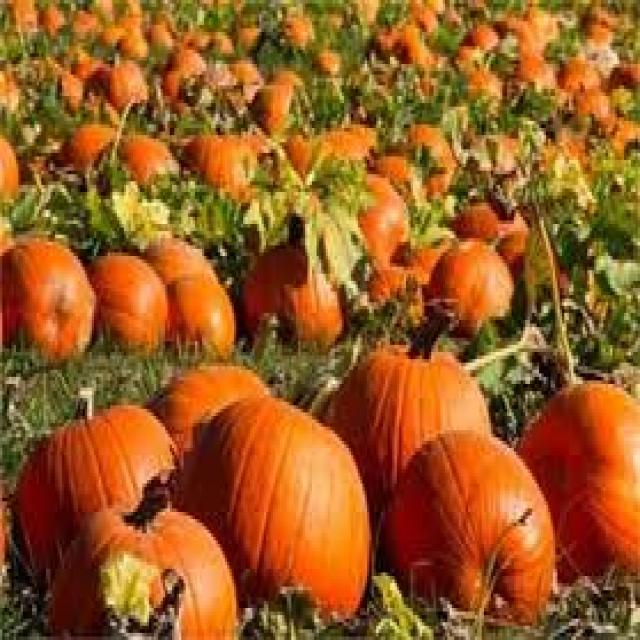organic waste: (181, 388, 367, 622), (376, 423, 555, 622), (14, 384, 179, 580), (46, 466, 236, 636), (331, 310, 486, 516), (512, 377, 638, 587), (156, 359, 264, 473), (239, 231, 344, 341), (0, 231, 92, 352), (85, 245, 165, 348), (426, 235, 512, 327), (179, 121, 250, 203), (443, 192, 523, 263), (154, 32, 216, 121), (495, 224, 569, 295), (354, 167, 408, 263), (166, 270, 230, 348), (397, 117, 454, 192), (241, 60, 298, 132), (110, 128, 174, 188), (494, 7, 542, 85), (365, 260, 424, 320), (94, 50, 142, 121), (55, 117, 115, 171), (367, 11, 427, 64), (144, 234, 207, 284), (94, 4, 154, 54), (278, 121, 321, 181), (466, 124, 516, 174), (321, 117, 376, 160), (50, 60, 90, 114), (397, 228, 438, 278), (149, 10, 186, 60), (378, 149, 418, 192), (62, 0, 105, 39), (0, 132, 25, 199), (557, 54, 601, 92), (574, 82, 612, 124), (578, 0, 622, 36), (447, 36, 484, 74), (519, 0, 555, 39), (223, 54, 259, 92), (2, 0, 37, 36), (182, 22, 230, 46), (603, 54, 638, 86), (66, 50, 105, 78), (39, 0, 73, 32), (234, 14, 261, 54), (608, 114, 638, 149), (312, 43, 342, 78), (284, 11, 314, 46), (461, 18, 496, 46), (461, 64, 496, 92), (0, 473, 11, 562), (404, 0, 434, 32), (415, 54, 438, 92), (248, 132, 273, 164), (0, 61, 16, 103)
